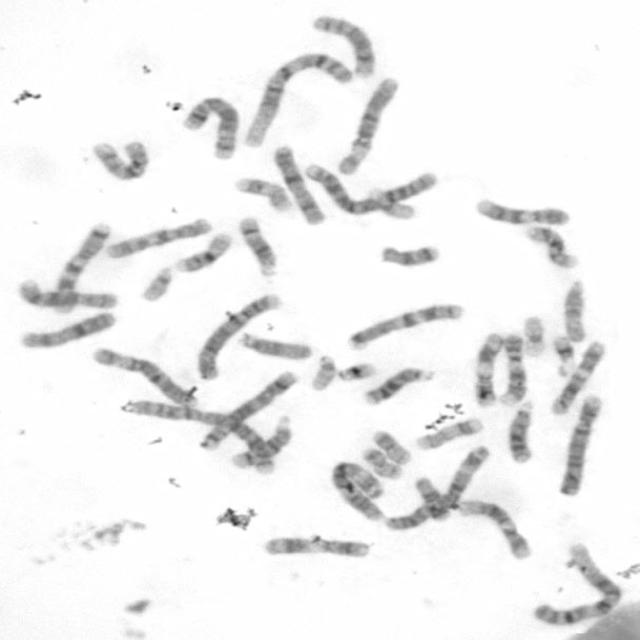A1: (239, 48, 355, 149), (526, 540, 624, 628)
A2: (119, 397, 278, 474), (300, 158, 434, 218)
A3: (379, 442, 492, 533), (327, 458, 388, 525)
B4: (191, 290, 283, 382), (555, 392, 605, 497)
B5: (194, 367, 300, 453), (178, 92, 240, 161)
C10: (101, 213, 214, 260), (90, 137, 152, 183)
C11: (259, 533, 373, 559), (470, 329, 505, 406)
C12: (546, 337, 608, 417), (456, 497, 532, 561)
C6: (332, 73, 402, 177), (88, 343, 199, 407)
C7: (46, 218, 115, 314), (342, 300, 466, 351)
C8: (308, 11, 378, 79), (16, 277, 121, 312)
C9: (470, 194, 572, 228), (495, 330, 529, 407)
D13: (361, 364, 435, 406), (503, 398, 537, 464)
D14: (227, 412, 294, 470), (234, 212, 280, 279)
D15: (236, 329, 314, 361), (558, 276, 589, 344)
E16: (520, 222, 580, 270), (172, 229, 234, 274)
E17: (411, 414, 485, 452), (230, 174, 294, 214)
E18: (411, 472, 452, 522), (373, 240, 441, 270)
F19: (363, 183, 417, 221), (519, 312, 549, 359)
F20: (368, 426, 414, 466), (357, 444, 406, 481)
G21: (550, 332, 578, 378), (333, 358, 378, 382)
G22: (134, 261, 174, 303), (306, 351, 337, 392)
X: (269, 142, 327, 227), (15, 308, 119, 350)
